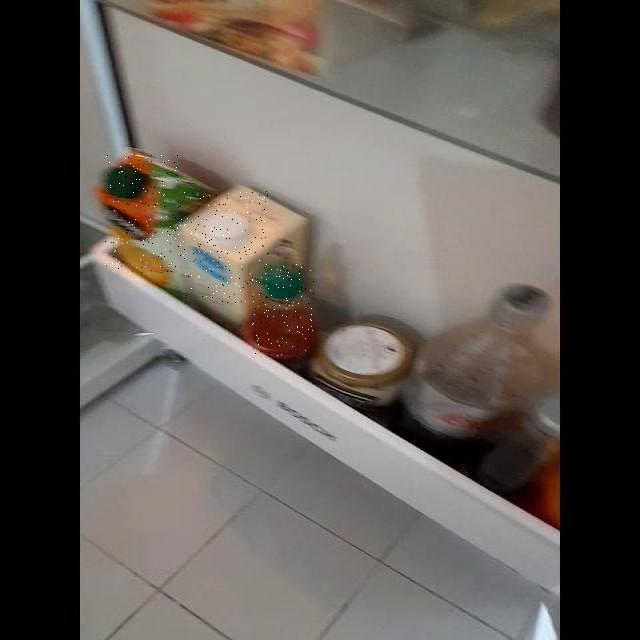juice: (105, 153, 179, 274)
milk: (180, 191, 269, 303)
sauce: (252, 264, 314, 356)
